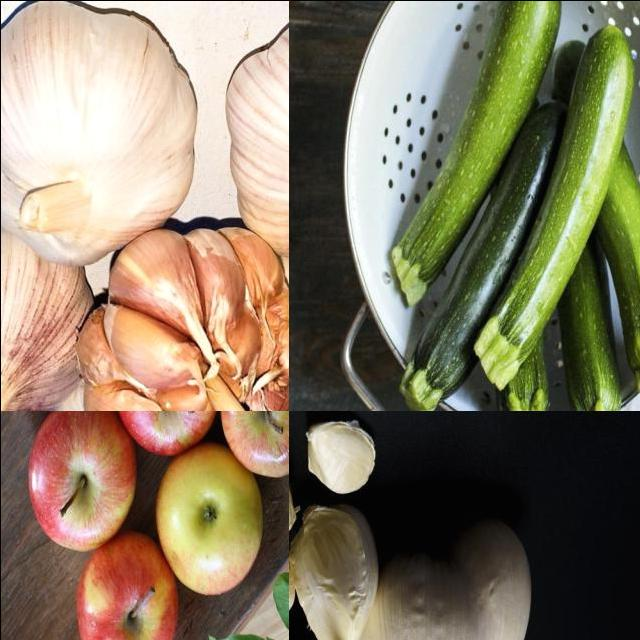garlic: (1, 1, 203, 269), (76, 226, 289, 411), (332, 516, 536, 640), (1, 222, 102, 411), (224, 1, 289, 263), (289, 507, 375, 640), (241, 250, 289, 411), (303, 415, 377, 497)
zucchini: (498, 37, 630, 368)
